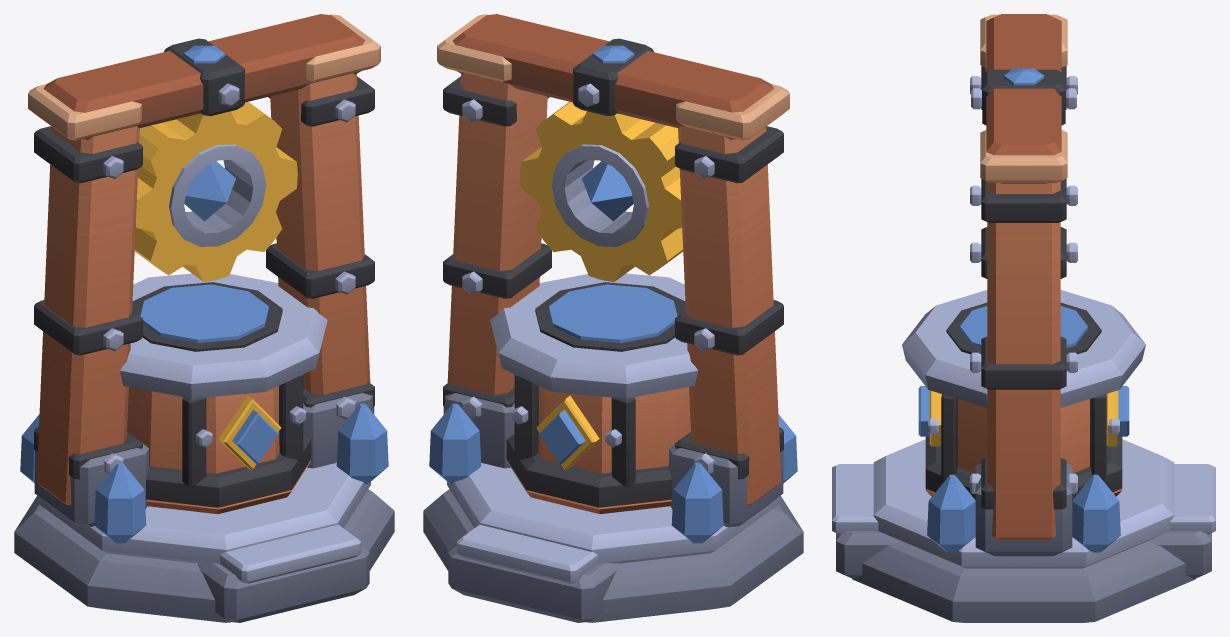
The model's file is building_shrine.glb.
3 renders of one model, left to right at view 1: azimuth 30°, elevation 25°; view 2: azimuth 150°, elevation 25°; view 3: azimuth 270°, elevation 25°, orthographic. The views are drawn at different scales.
Visible parts, largest first — view 1: woodland_building_shrine_body, woodland_building_shrine_blessing; view 2: woodland_building_shrine_body, woodland_building_shrine_blessing; view 3: woodland_building_shrine_body.
Boxes of the visible parts, <box> form: woodland_building_shrine_body: <box>14,14,394,622</box>; woodland_building_shrine_blessing: <box>134,102,297,281</box>; woodland_building_shrine_body: <box>423,14,803,622</box>; woodland_building_shrine_blessing: <box>520,102,683,281</box>; woodland_building_shrine_body: <box>832,14,1215,622</box>.
Bounding box in the file's own units: 1.81 × 2.8 × 1.98.
1 material, 1 textured.
